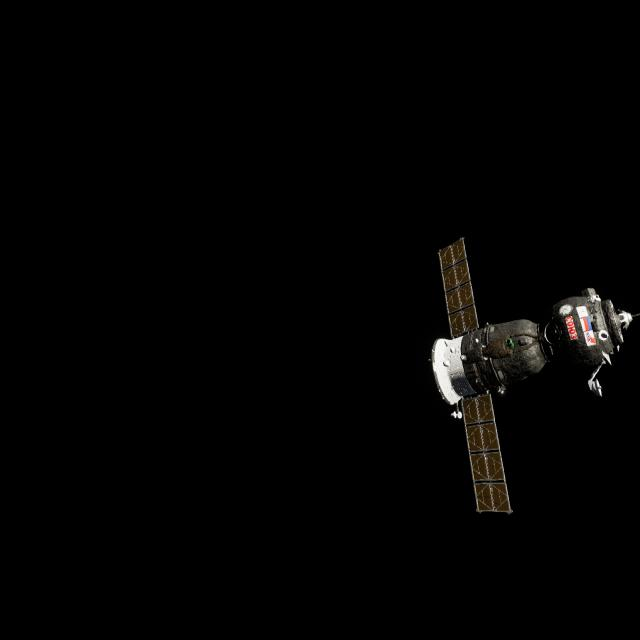Satellites revolving around earth: (428, 235, 634, 517)
